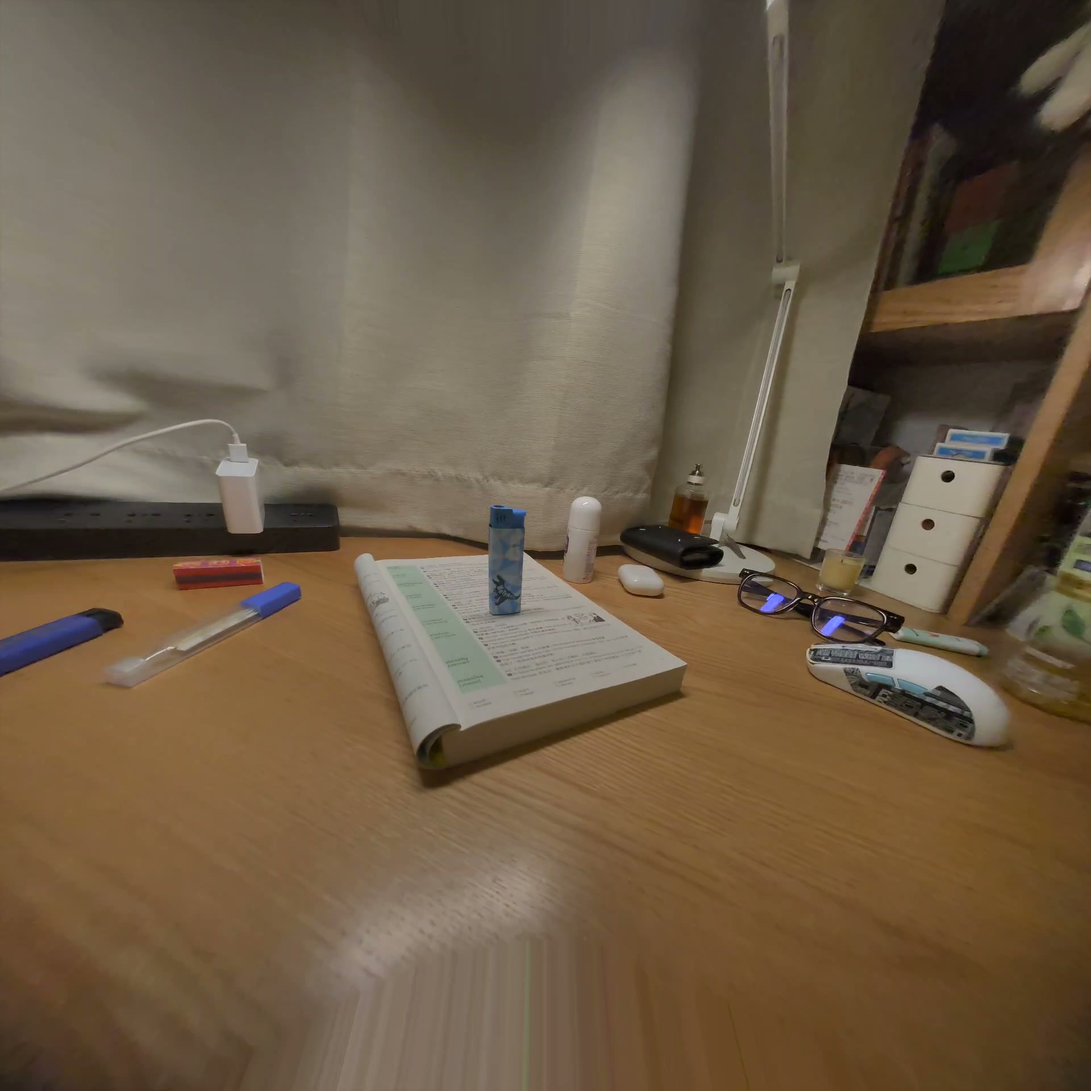lighter: (489, 505, 526, 615)
